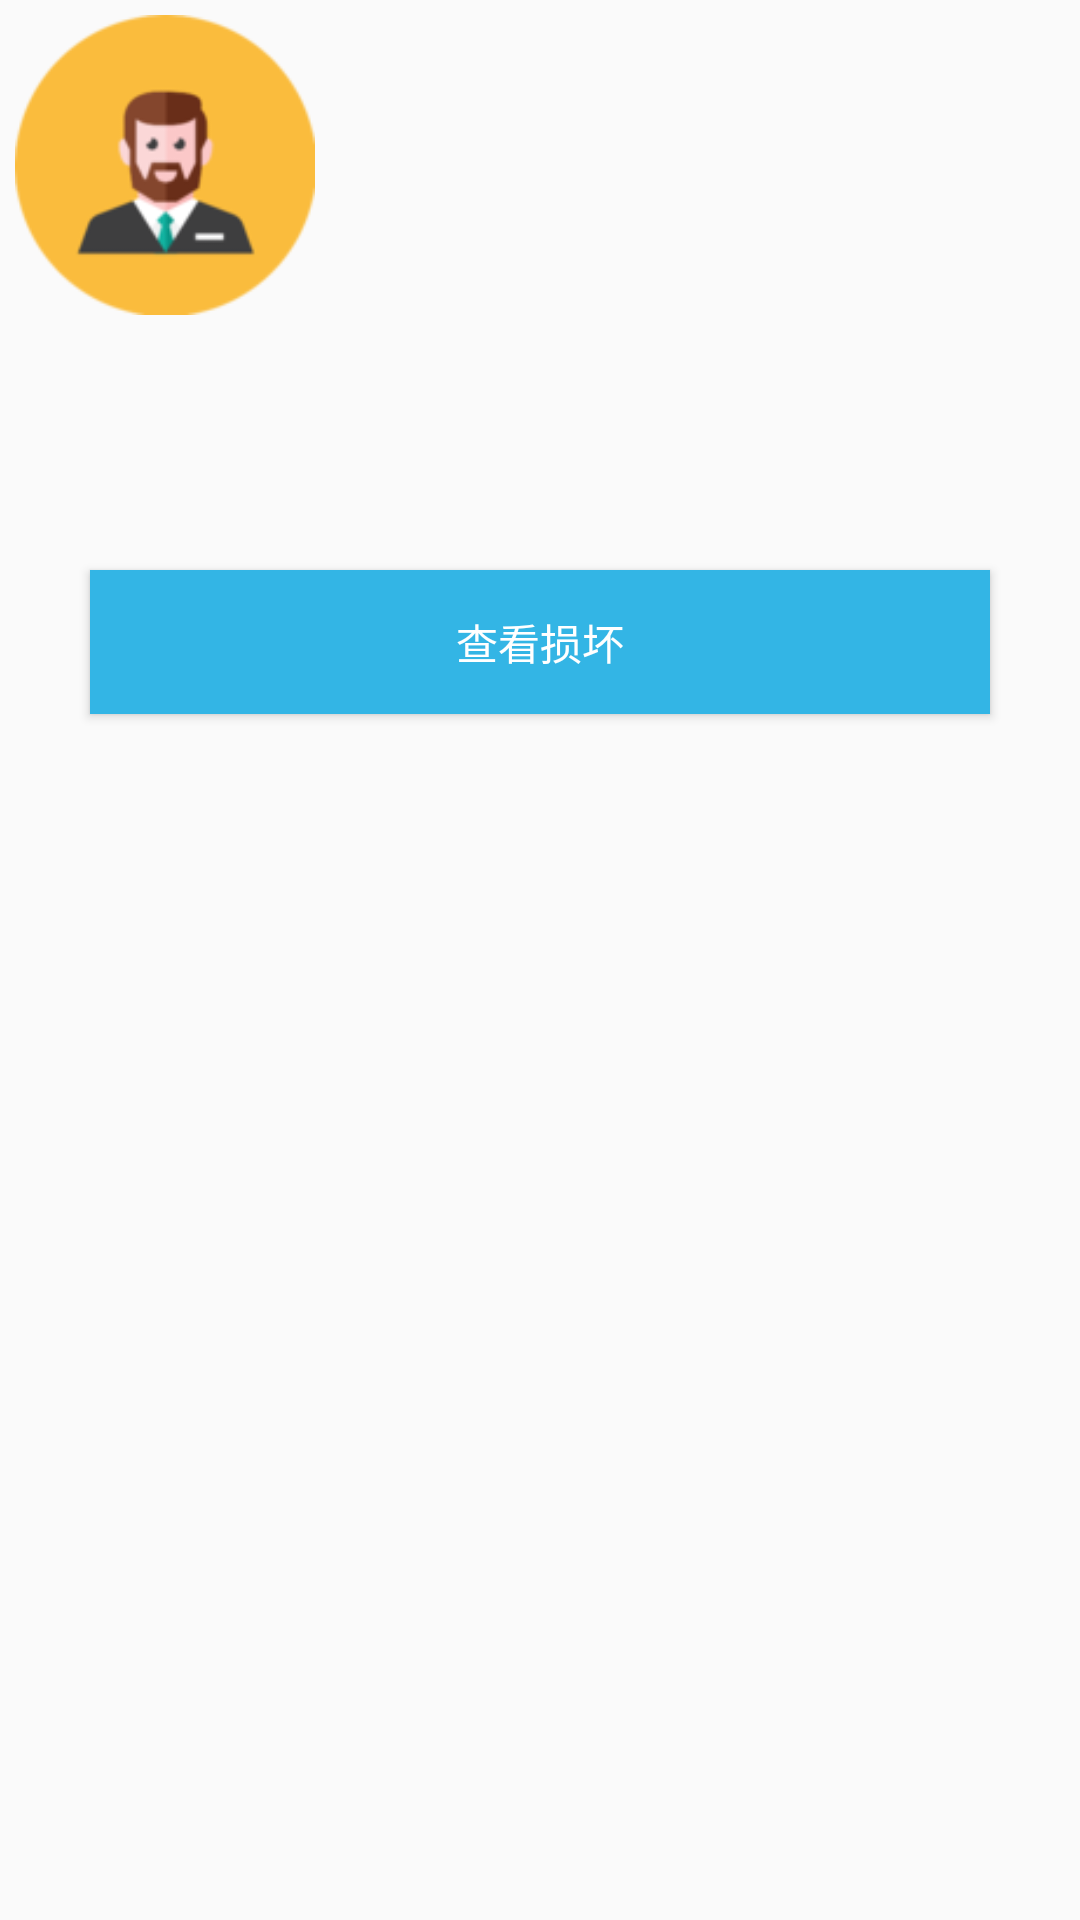

Where icons sit on this 1080 × 1920 app screen, as Rect(x1, y1, x2, y2):
boss: Rect(15, 15, 315, 315)
